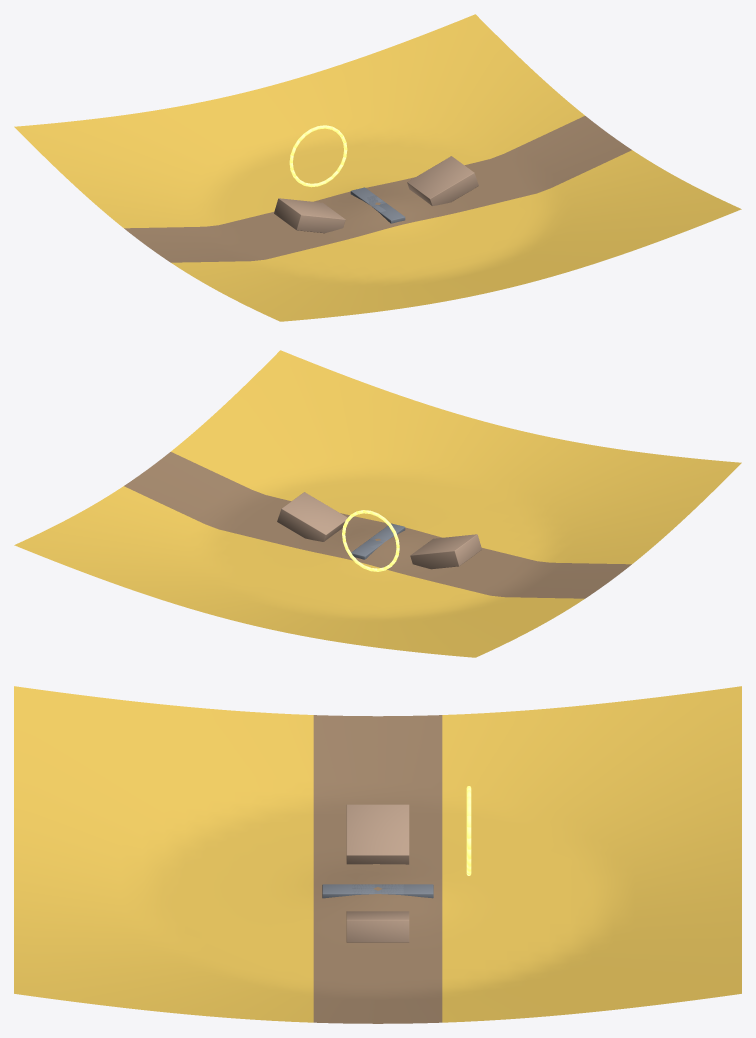
The model's file is chapter_06_arena.glb.
3 renders of one model, top to bottom at view 1: azimuth 30°, elevation 25°; view 2: azimuth 150°, elevation 25°; view 3: azimuth 270°, elevation 25°, orthographic. The views are drawn at different scales.
Parts seen in each view (by area): view 1: Chapter_Environment; view 2: Chapter_Environment; view 3: Chapter_Environment.
Part boxes in pixels (x1,y1,x2,y2): Chapter_Environment: (14,14,741,321); Chapter_Environment: (14,350,741,657); Chapter_Environment: (14,686,741,1023).
Bounding box in the file's own units: 44 × 6.44 × 44.
